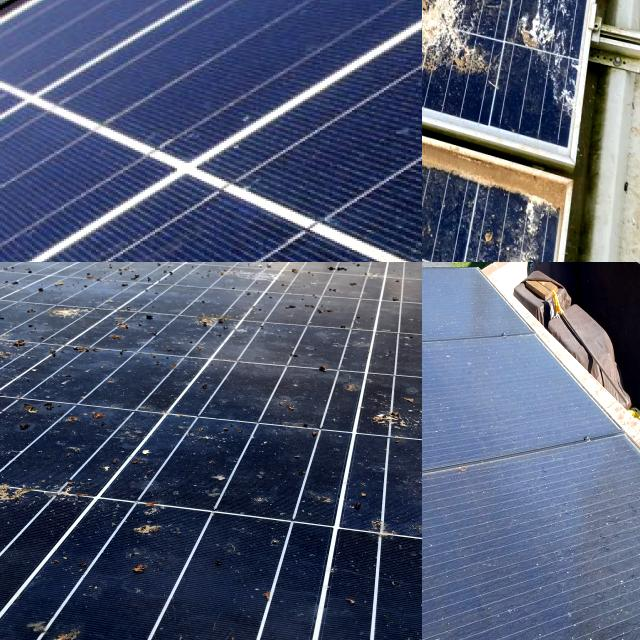bird: (515, 0, 582, 115), (3, 587, 134, 640), (0, 464, 77, 553), (124, 496, 190, 592), (425, 0, 544, 51), (486, 170, 550, 262), (0, 281, 107, 333), (422, 0, 499, 72), (422, 142, 483, 214), (0, 386, 98, 425), (422, 221, 494, 262), (194, 304, 264, 340), (401, 326, 422, 408), (422, 0, 465, 40), (422, 0, 465, 35)
crack: (0, 0, 422, 262)
dust: (422, 342, 525, 463), (512, 458, 575, 640), (422, 481, 479, 640), (602, 460, 640, 634), (422, 345, 463, 475), (422, 270, 475, 338), (422, 277, 465, 339)
